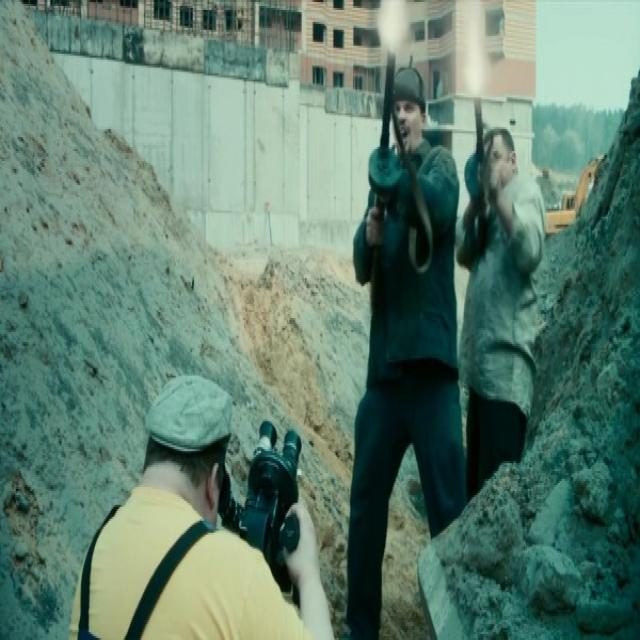rifle: (377, 42, 405, 232)
